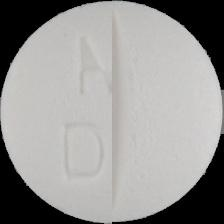55154-5468: (0, 0, 224, 224)
